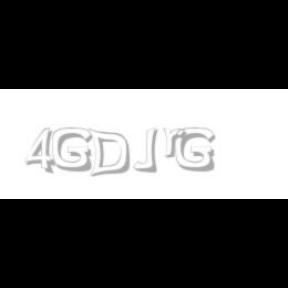4: (24, 128, 56, 174)
D: (88, 128, 130, 178)
G: (52, 128, 92, 172), (175, 128, 215, 172)
J: (132, 128, 158, 172)
r: (162, 128, 190, 158)
